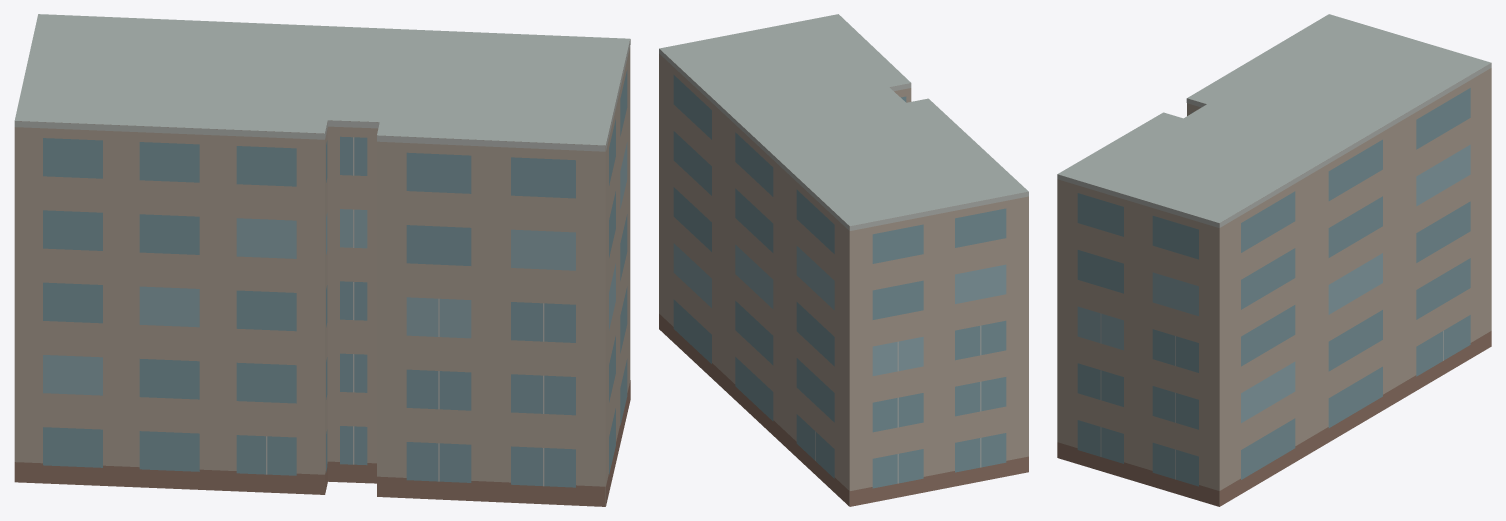
The model's file is survey-upis-32551055.glb.
3 views of the same model, side by side, from view 1: azimuth 30°, elevation 25°; view 2: azimuth 150°, elevation 25°; view 3: azimuth 270°, elevation 25° (orthographic). The views are drawn at different scales.
Visible parts, largest first — view 1: survey-upis-32551055.tmp; view 2: survey-upis-32551055.tmp; view 3: survey-upis-32551055.tmp.
Boxes of the visible parts, x1,y1,x2,y2 form: survey-upis-32551055.tmp: (14,14,630,506); survey-upis-32551055.tmp: (659,14,1028,506); survey-upis-32551055.tmp: (1057,14,1491,506).
Bounding box in the file's own units: 22.14 × 14 × 19.43.
